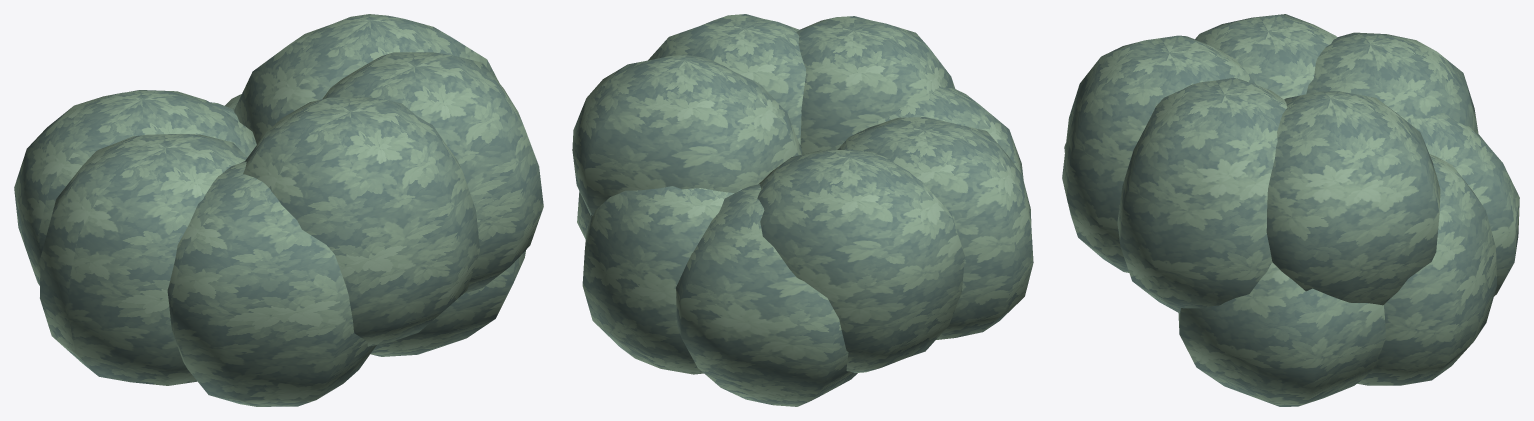
The model's file is bush.glb.
3 renders of one model, left to right at view 1: azimuth 30°, elevation 25°; view 2: azimuth 150°, elevation 25°; view 3: azimuth 270°, elevation 25°, orthographic. The views are drawn at different scales.
Visible parts, largest first — view 1: bush; view 2: bush; view 3: bush.
Part boxes in pixels (<box>): bush: <box>14,14,543,406</box>; bush: <box>572,14,1033,406</box>; bush: <box>1062,14,1519,406</box>.
Size of the model in its own units: 1.48 by 0.9342 by 1.29.
1 material, 1 textured.
